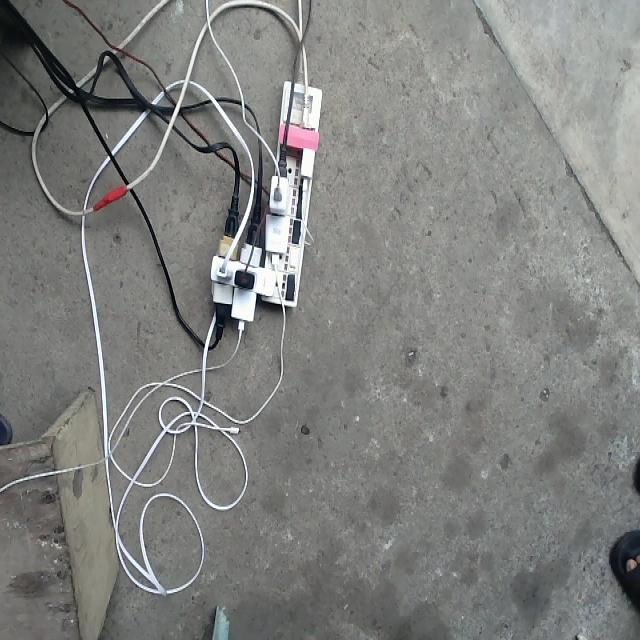-: (186, 48, 332, 373)
